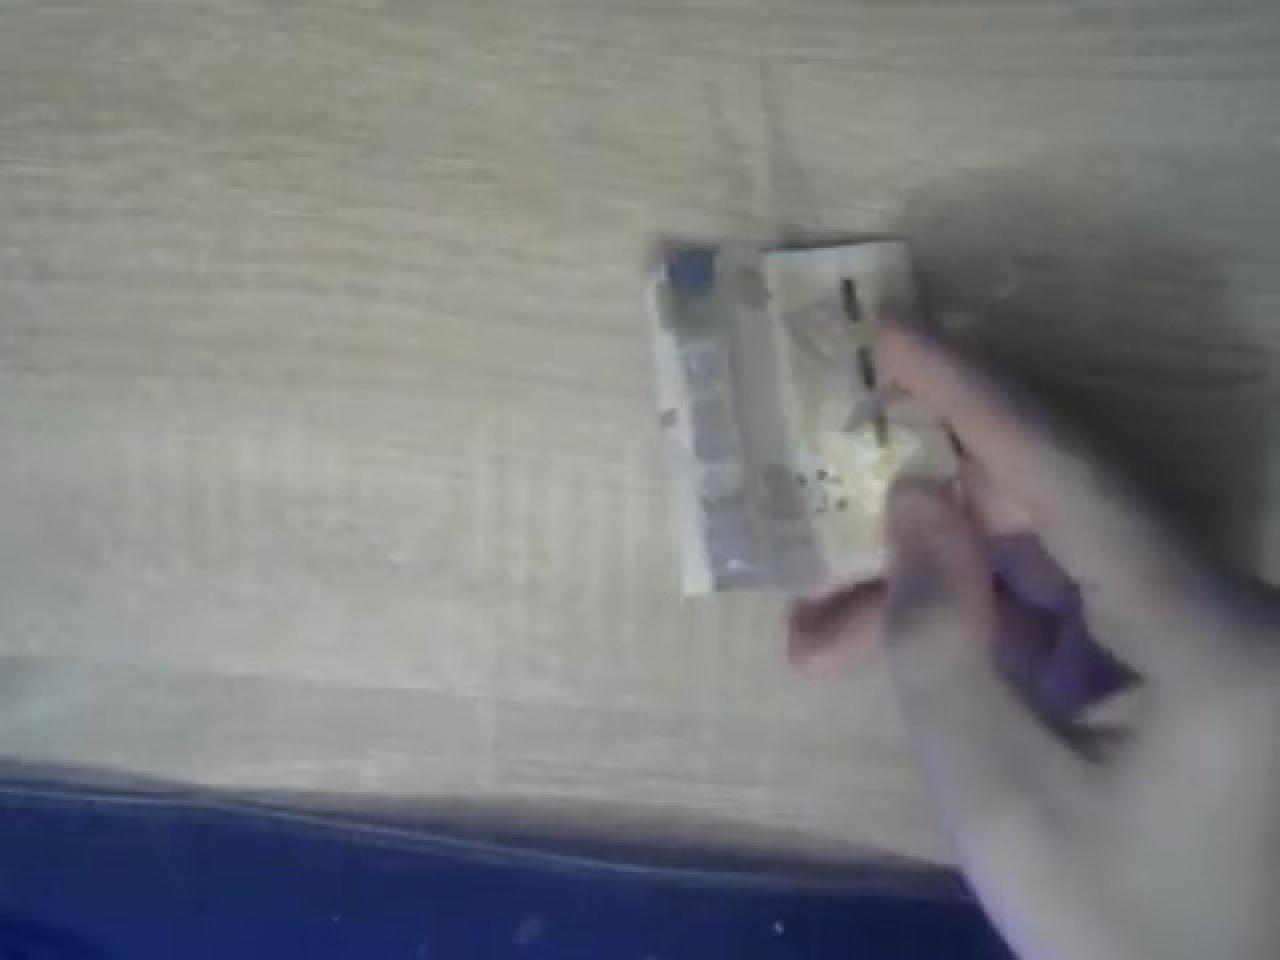10leva: (643, 235, 957, 605)
